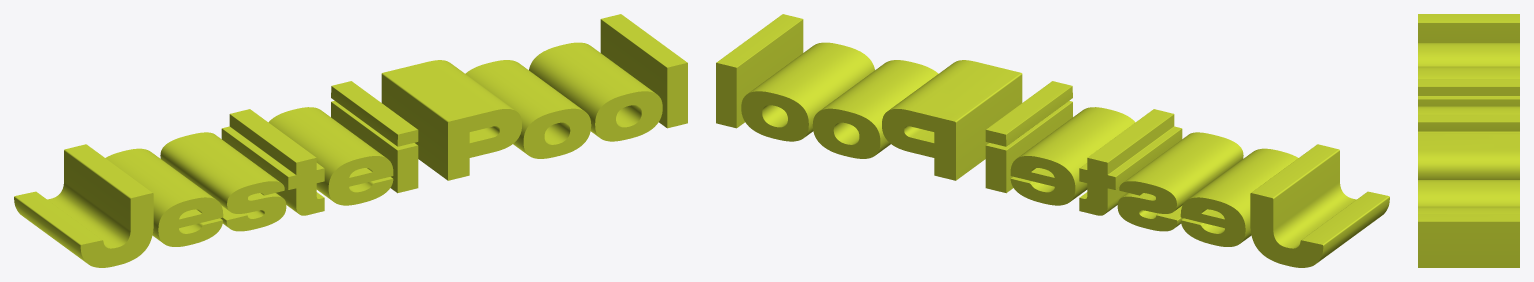
File: jestei-wordmark-pear.glb
3 views of the same model, side by side, from view 1: azimuth 30°, elevation 25°; view 2: azimuth 150°, elevation 25°; view 3: azimuth 270°, elevation 25° (orthographic). The views are drawn at different scales.
Parts seen in each view (by area): view 1: jestei-wordmark-pear; view 2: jestei-wordmark-pear; view 3: jestei-wordmark-pear.
Boxes of the visible parts, box(x1,y1,x2,y2) form: jestei-wordmark-pear: box(14, 14, 687, 267); jestei-wordmark-pear: box(716, 14, 1389, 267); jestei-wordmark-pear: box(1418, 14, 1519, 267).
Bounding box in the file's own units: 2 × 0.2014 × 0.38.
